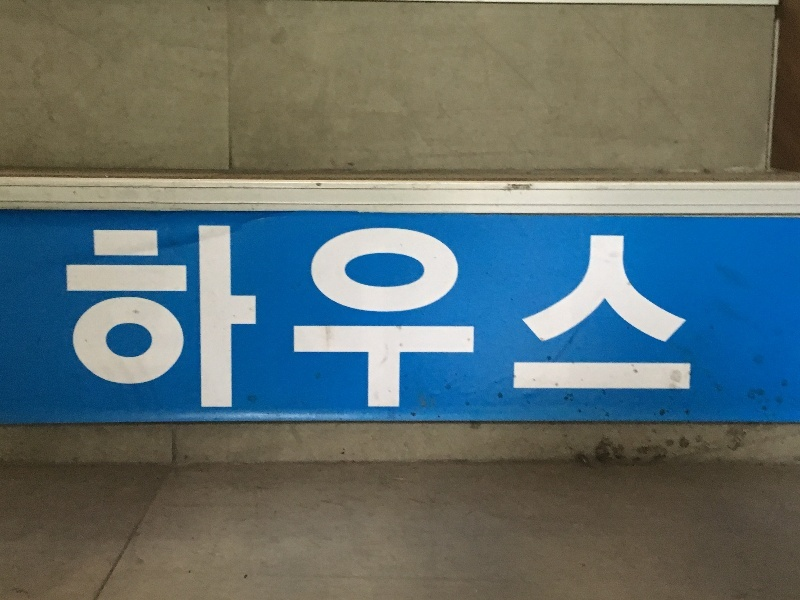text: (49, 216, 64, 429), (65, 216, 80, 429), (81, 216, 96, 429), (97, 216, 112, 429), (113, 216, 128, 429), (129, 216, 144, 429), (145, 216, 160, 429), (161, 216, 176, 429), (177, 216, 192, 429), (193, 216, 208, 429), (209, 216, 224, 429), (225, 216, 240, 429), (241, 216, 256, 429), (257, 216, 272, 429), (273, 216, 288, 429), (289, 216, 304, 429), (305, 216, 320, 429), (321, 216, 336, 429), (337, 216, 352, 429), (353, 216, 368, 429), (369, 216, 384, 429), (385, 216, 400, 429), (401, 216, 416, 429), (417, 216, 432, 429), (433, 216, 448, 429), (449, 216, 464, 429), (465, 216, 480, 429), (481, 216, 496, 429), (497, 216, 512, 429), (513, 216, 528, 429), (529, 216, 544, 429), (545, 216, 560, 429), (561, 216, 576, 429), (577, 216, 592, 429), (593, 216, 608, 429), (609, 216, 624, 429), (625, 216, 640, 429), (641, 216, 656, 429), (657, 216, 672, 429), (673, 216, 688, 429), (689, 216, 704, 429), (37, 216, 48, 429), (705, 216, 709, 429)
